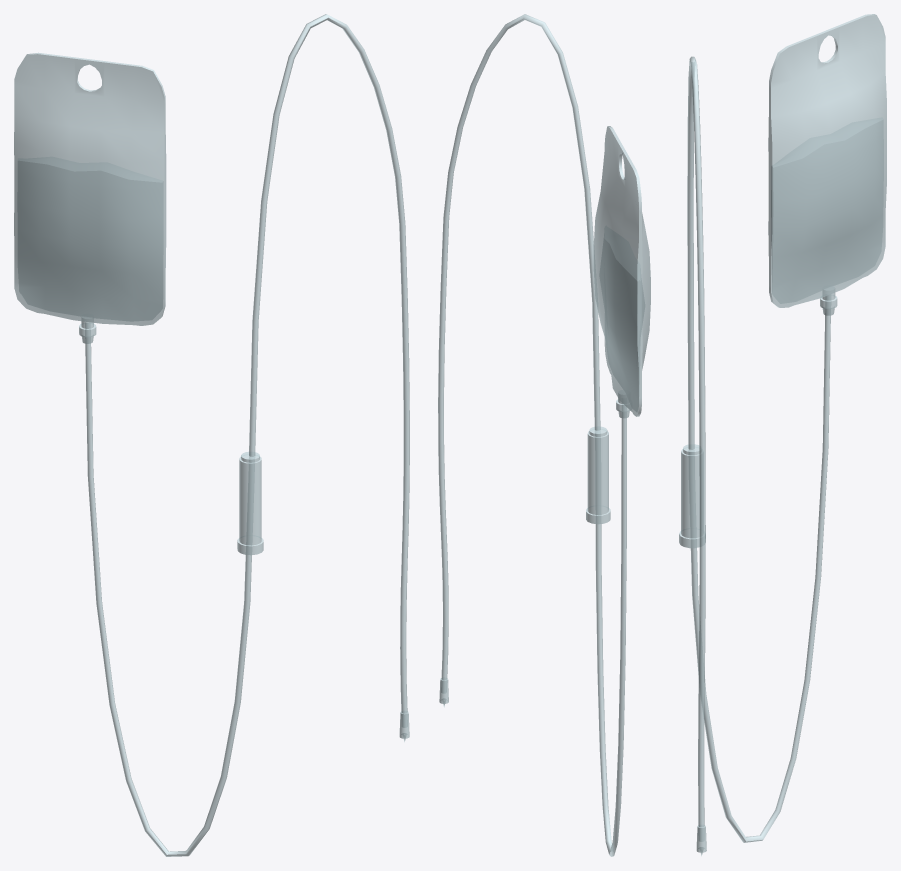
Rendered from hp_iv_bag.glb.
3 renders of one model, left to right at view 1: azimuth 30°, elevation 25°; view 2: azimuth 150°, elevation 25°; view 3: azimuth 270°, elevation 25°, orthographic. The views are drawn at different scales.
Visible parts, largest first — view 1: IV_bag; view 2: IV_bag; view 3: IV_bag.
Part boxes in pixels (x1,y1,x2,y2): IV_bag: (14, 14, 409, 856); IV_bag: (438, 14, 650, 856); IV_bag: (679, 14, 886, 856).
Size of the model in its own units: 0.4239 by 1.11 by 0.2484.
